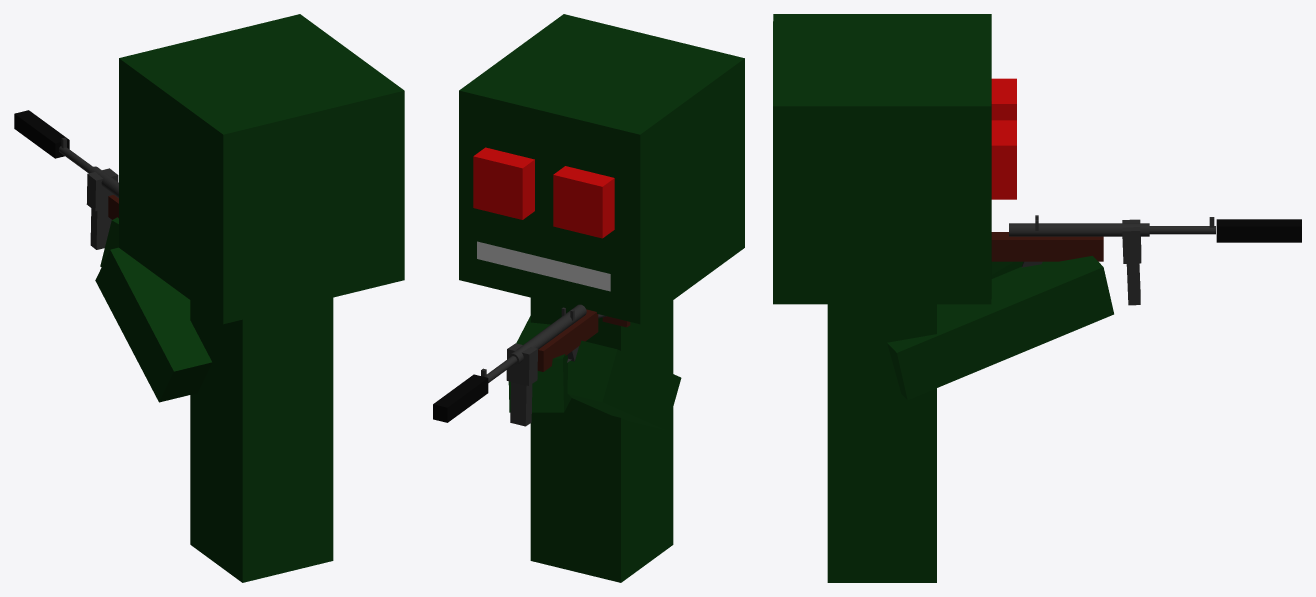
Rendered from walk2_000013.obj.
3 views of the same model, side by side, from view 1: azimuth 30°, elevation 25°; view 2: azimuth 150°, elevation 25°; view 3: azimuth 270°, elevation 25° (orthographic). The views are drawn at different scales.
Visible parts, largest first — view 1: Cube.001, Cube, Cube.012, Cube.014_Cube.015, Cube.004, Cube.008_Cube.005; view 2: Cube.001, Cube, Cube.012, Cube.002, Cube.003, Plane, Cube.013, Cube.010, Cube.014_Cube.015, Cylinder, Cube.004, Cube.008_Cube.005; view 3: Cube.001, Cube, Cube.013, Cube.010, Cube.002, Cube.014_Cube.015, Cylinder, Cube.003, Cube.004.
Part boxes in pixels (x1=…): Cube.001: x1=119, y1=14, x2=404, y2=324; Cube: x1=190, y1=297, x2=333, y2=582; Cube.012: x1=95, y1=247, x2=212, y2=402; Cube.014_Cube.015: x1=14, y1=110, x2=69, y2=158; Cube.004: x1=86, y1=168, x2=118, y2=211; Cube.008_Cube.005: x1=90, y1=208, x2=111, y2=249; Cube.001: x1=459, y1=14, x2=744, y2=324; Cube: x1=530, y1=297, x2=673, y2=582; Cube.012: x1=567, y1=340, x2=681, y2=430; Cube.002: x1=473, y1=147, x2=534, y2=219; Cube.003: x1=553, y1=166, x2=614, y2=238; Plane: x1=477, y1=241, x2=610, y2=291; Cube.013: x1=508, y1=316, x2=571, y2=412; Cube.010: x1=537, y1=309, x2=598, y2=371; Cube.014_Cube.015: x1=433, y1=374, x2=488, y2=422; Cylinder: x1=508, y1=304, x2=586, y2=365; Cube.004: x1=506, y1=343, x2=537, y2=385; Cube.008_Cube.005: x1=510, y1=382, x2=532, y2=426; Cube.001: x1=773, y1=14, x2=991, y2=304; Cube: x1=827, y1=304, x2=936, y2=582; Cube.013: x1=887, y1=256, x2=1113, y2=399; Cube.010: x1=991, y1=232, x2=1103, y2=261; Cube.002: x1=991, y1=120, x2=1016, y2=199; Cube.014_Cube.015: x1=1216, y1=219, x2=1301, y2=242; Cylinder: x1=1009, y1=223, x2=1149, y2=236; Cube.003: x1=991, y1=78, x2=1016, y2=120; Cube.004: x1=1122, y1=219, x2=1141, y2=263.
Bounding box in the file's own units: 2 × 5.05 × 4.84.
